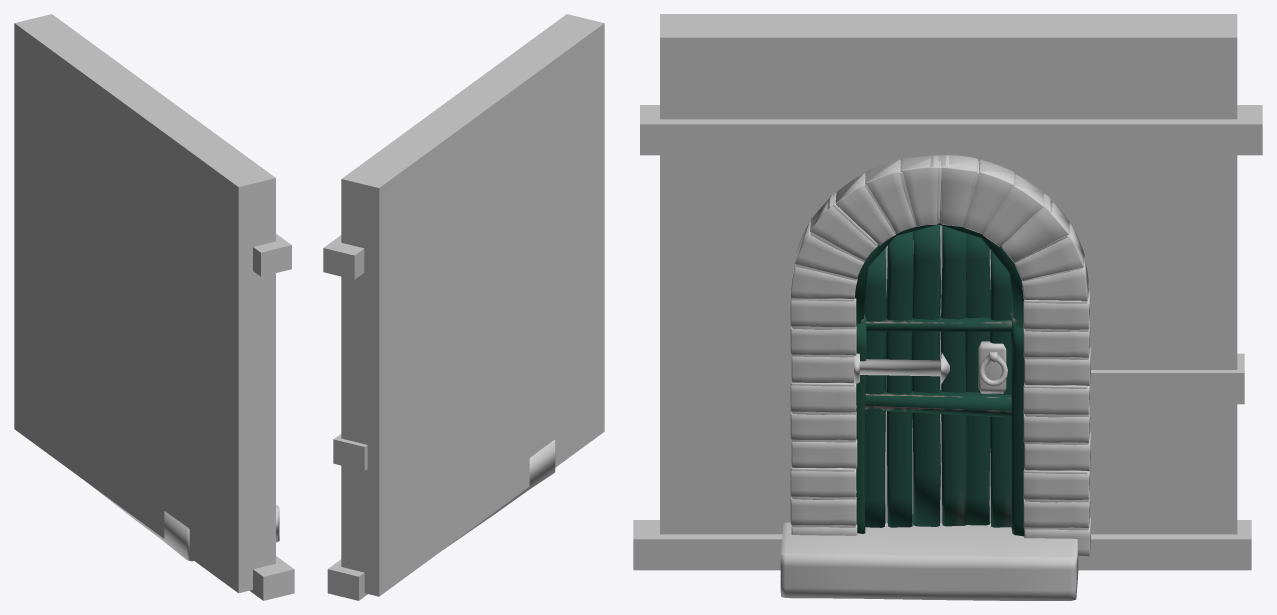
File: Building_Wall_03.fbx
3 views of the same model, side by side, from view 1: azimuth 30°, elevation 25°; view 2: azimuth 150°, elevation 25°; view 3: azimuth 270°, elevation 25° (orthographic). The views are drawn at different scales.
Visible parts, largest first — view 1: Door.001; view 2: Door.001; view 3: Door.001.
Part boxes in pixels (<box>): Door.001: <box>14,14,294,600</box>; Door.001: <box>323,14,604,600</box>; Door.001: <box>633,14,1262,600</box>.
Bounding box in the file's own units: 613 × 2532 × 2724.
